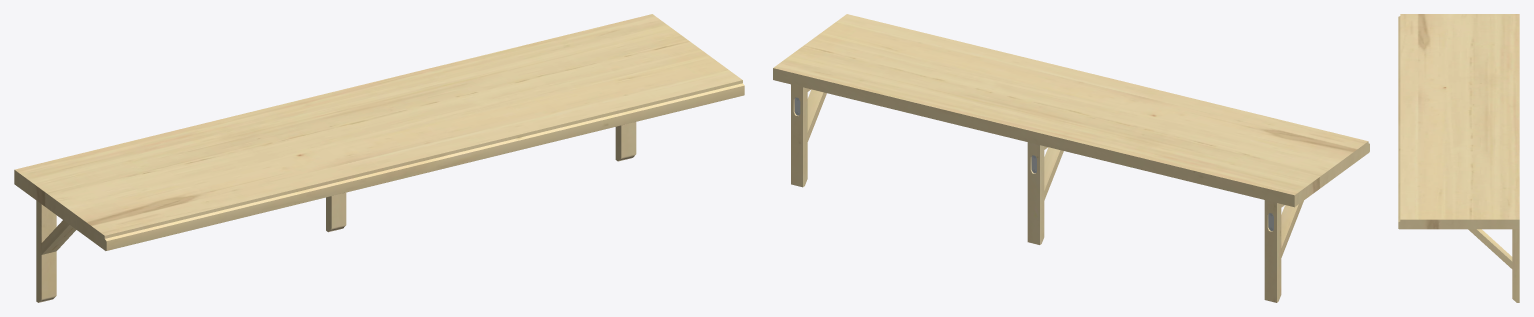
3 views of the same model, side by side, from view 1: azimuth 30°, elevation 25°; view 2: azimuth 150°, elevation 25°; view 3: azimuth 270°, elevation 25° (orthographic). The views are drawn at different scales.
Parts seen in each view (by area): view 1: tranhult-sandshult-120.001; view 2: tranhult-sandshult-120.001; view 3: tranhult-sandshult-120.001.
Boxes of the visible parts, x1,y1,x2,y2 form: tranhult-sandshult-120.001: [14, 14, 744, 302]; tranhult-sandshult-120.001: [773, 14, 1369, 302]; tranhult-sandshult-120.001: [1398, 14, 1519, 302].
Size of the model in its own units: 1.2 by 0.2462 by 0.3.
1 material, 1 textured.
